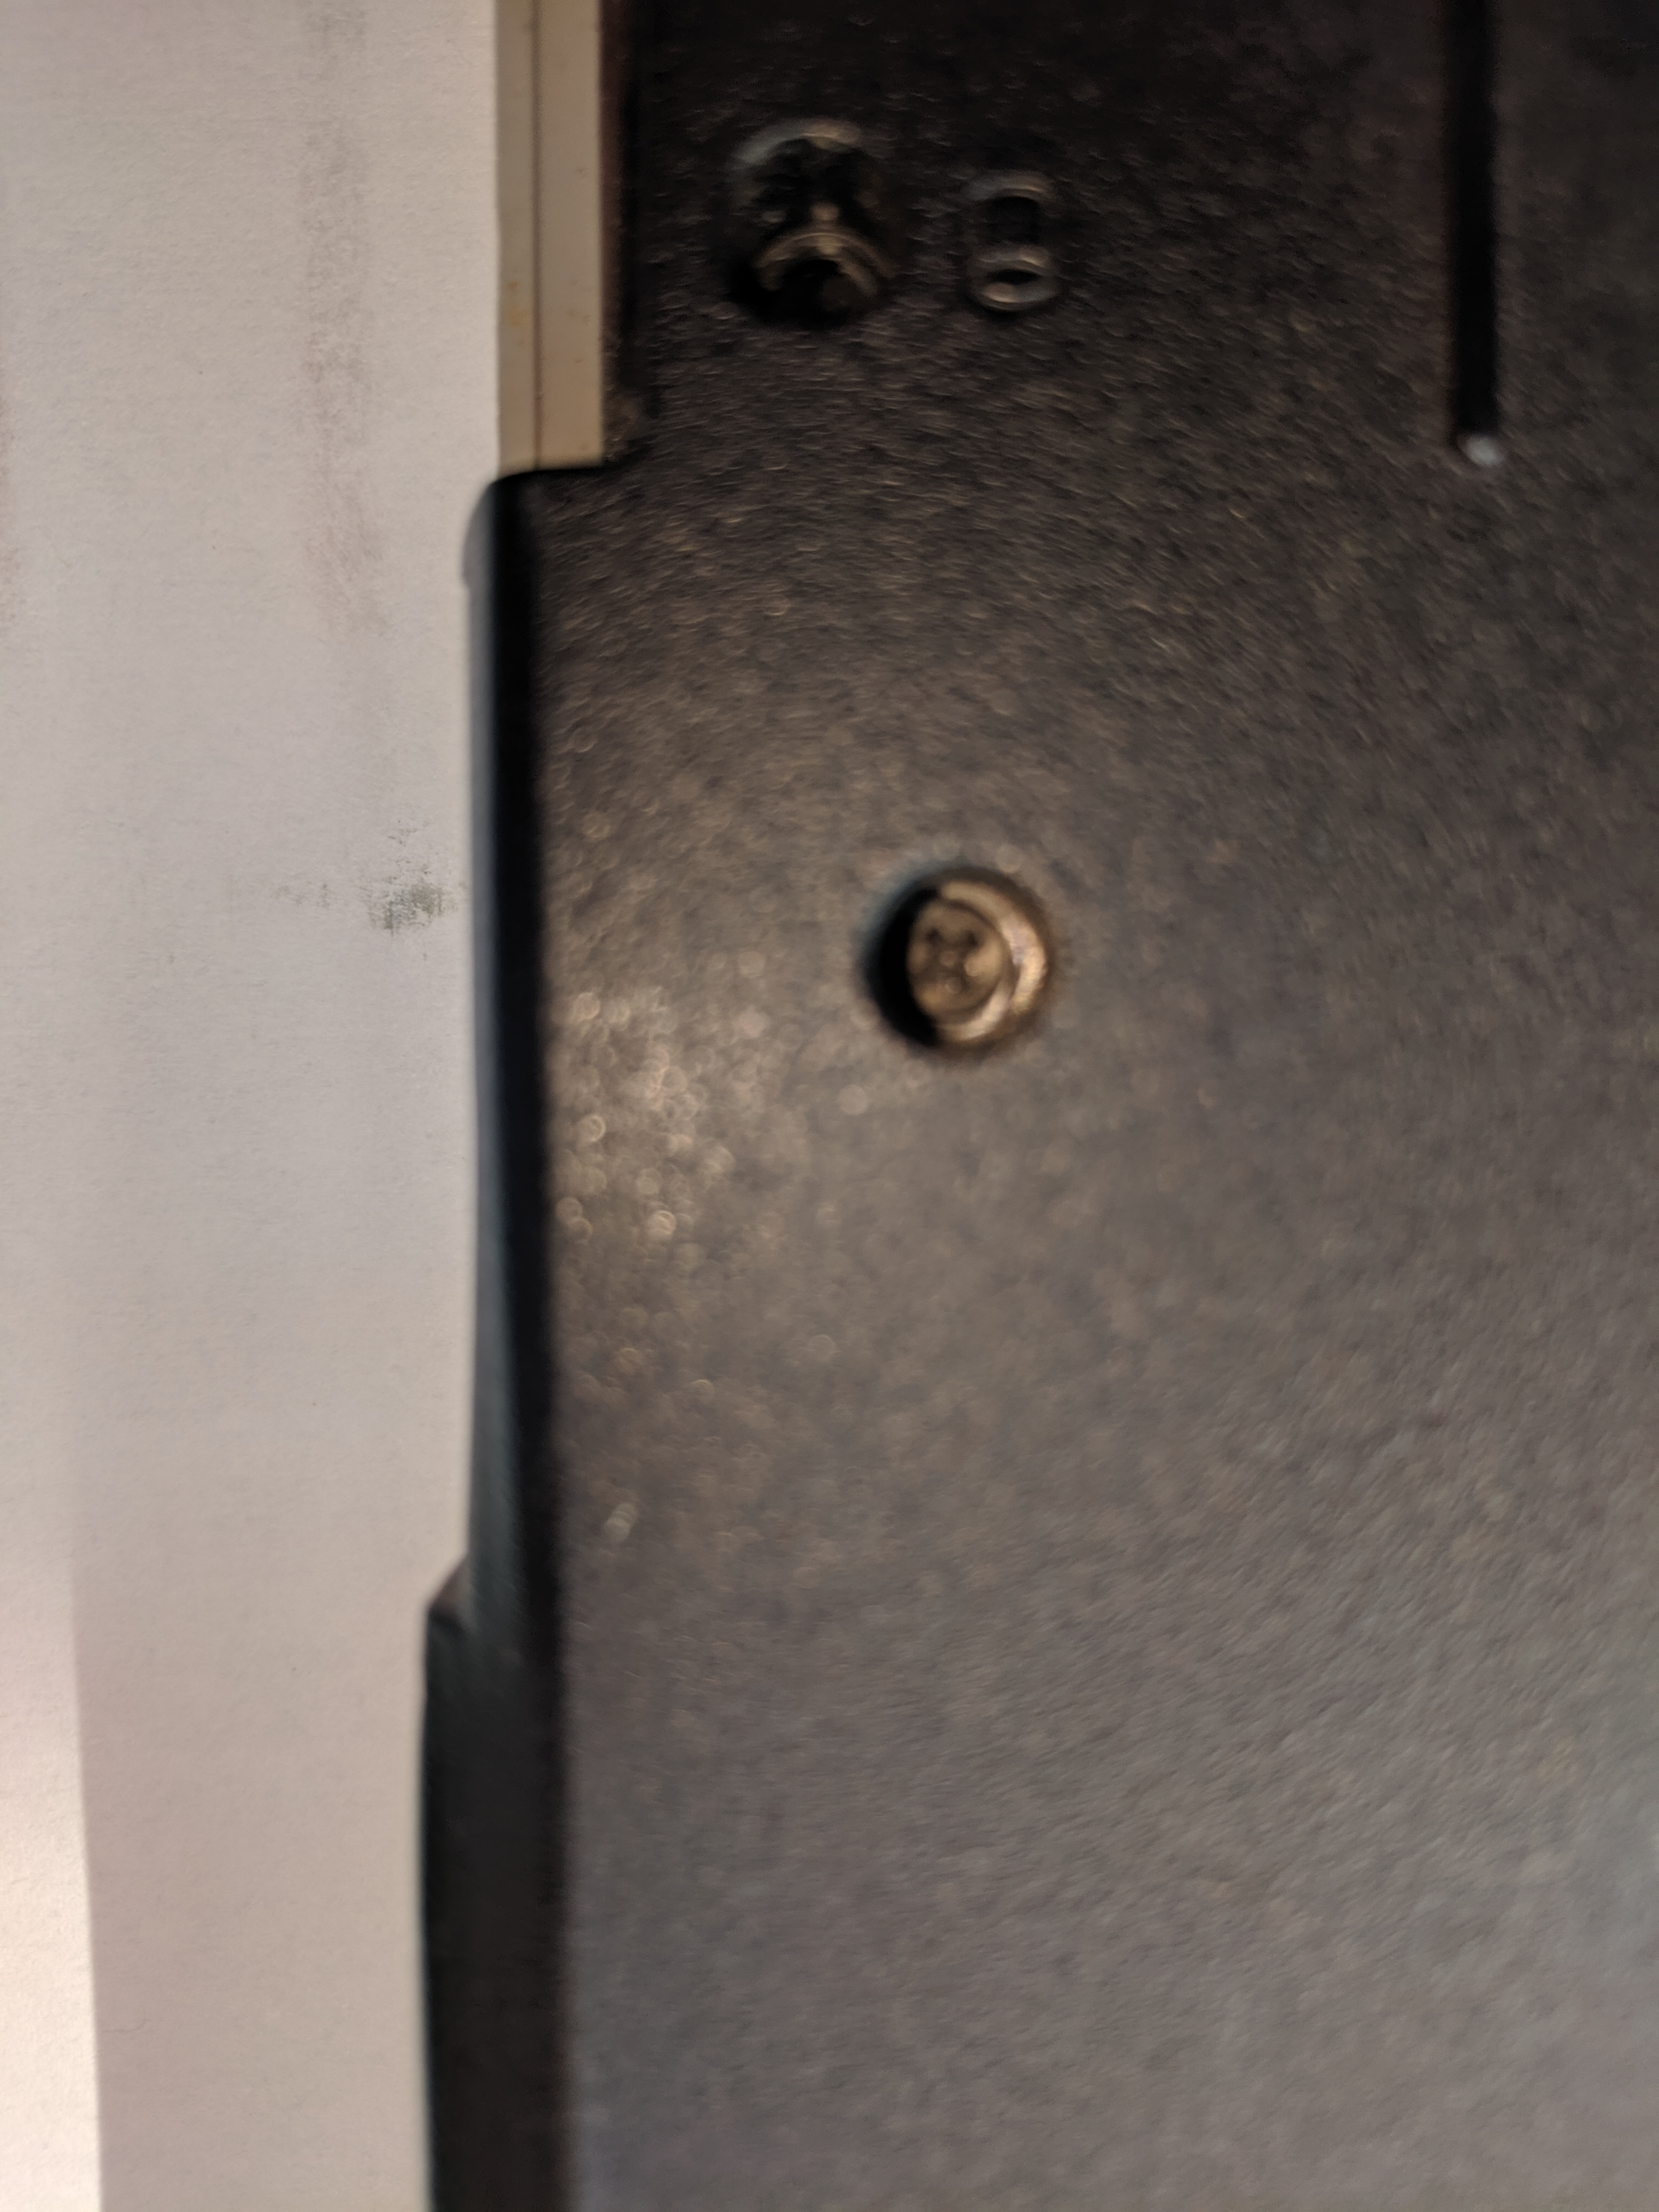cross_recessed_screw: (864, 869, 1025, 1042)
